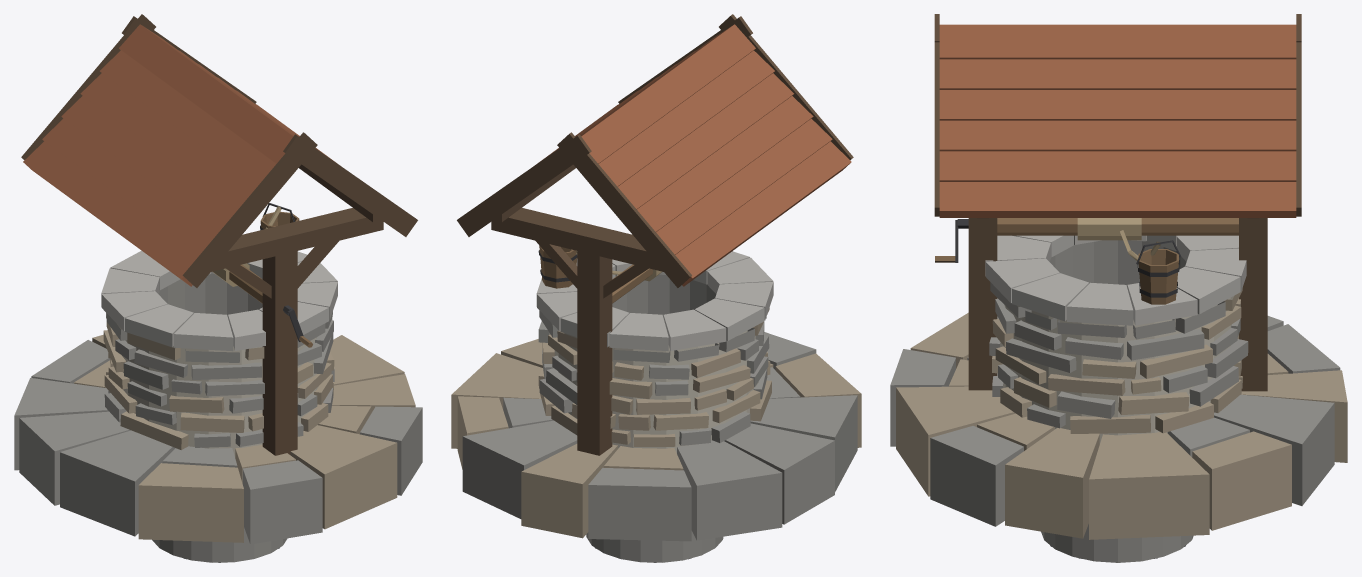
File: well_stone.glb
3 renders of one model, left to right at view 1: azimuth 30°, elevation 25°; view 2: azimuth 150°, elevation 25°; view 3: azimuth 270°, elevation 25°, orthographic. The views are drawn at different scales.
Parts seen in each view (by area): view 1: well_stone_lod0; view 2: well_stone_lod0; view 3: well_stone_lod0.
Part boxes in pixels (x1,y1,x2,y2): well_stone_lod0: (14,14,422,562); well_stone_lod0: (451,14,861,562); well_stone_lod0: (890,14,1347,562).
Size of what is drawn, in the model's own units: 2.63 by 3.36 by 2.71.
